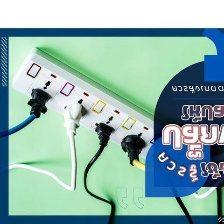three_eye_plug: (8, 44, 223, 196)
